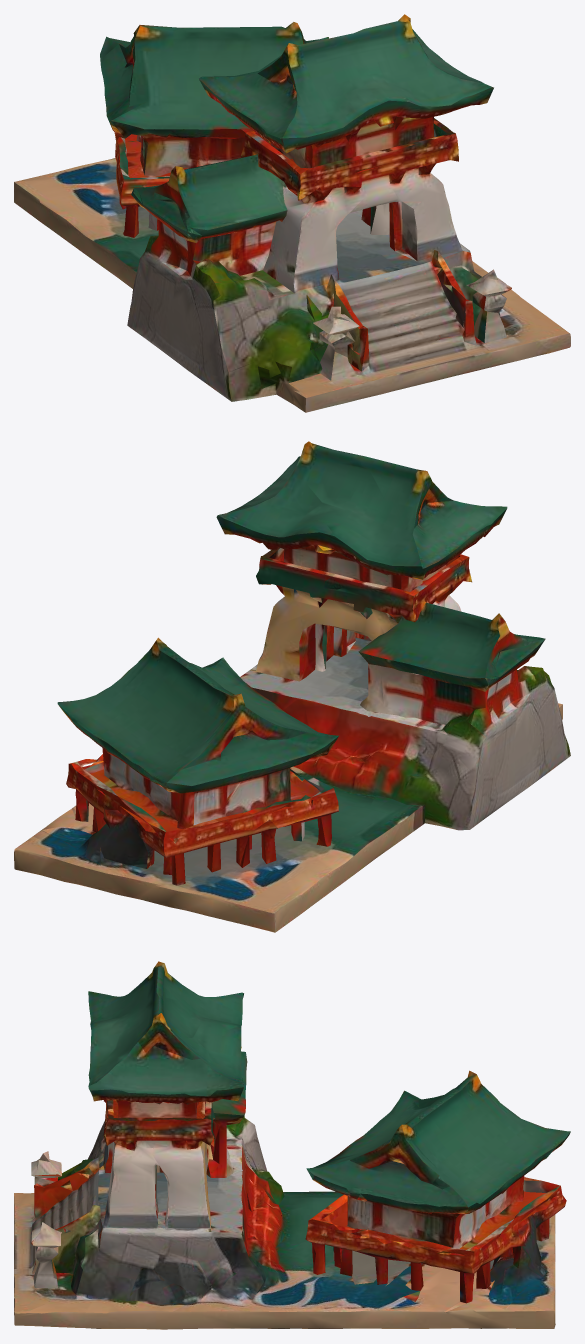
The model's file is akama-jingu.glb.
The picture shows the model from 3 angles, top to bottom: view 1: azimuth 30°, elevation 25°; view 2: azimuth 150°, elevation 25°; view 3: azimuth 270°, elevation 25°; orthographic projection. The views are drawn at different scales.
Visible parts, largest first — view 1: logan-textured.obj; view 2: logan-textured.obj; view 3: logan-textured.obj.
Part boxes in pixels (x1,y1,x2,y2): logan-textured.obj: (14,14,570,412); logan-textured.obj: (14,441,570,932); logan-textured.obj: (14,961,570,1329).
Size of the model in its own units: 0.6096 by 0.5504 by 1.
1 material, 1 textured.
